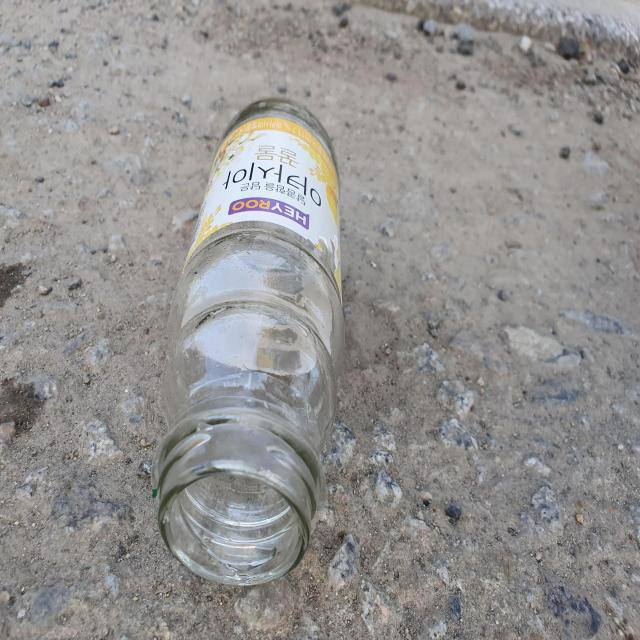glass: (152, 98, 344, 585)
